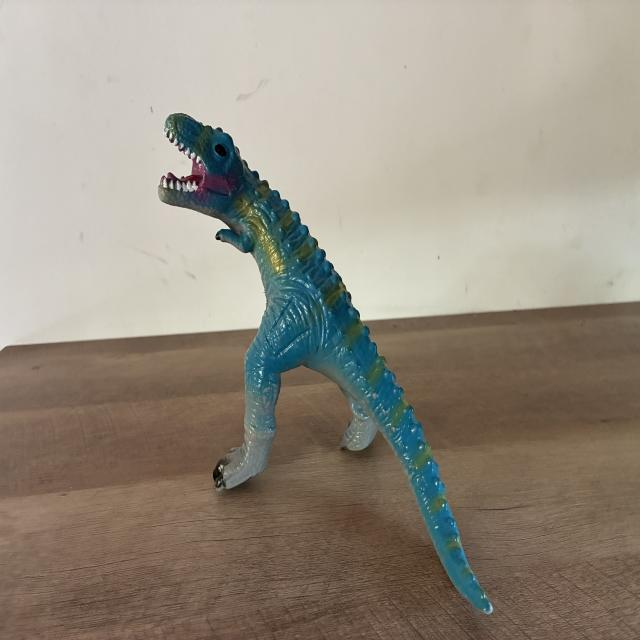dinosaur: (158, 114, 492, 613)
